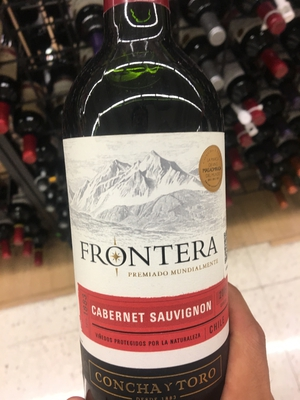frontera cabernet sauvignon: (60, 6, 243, 400)
